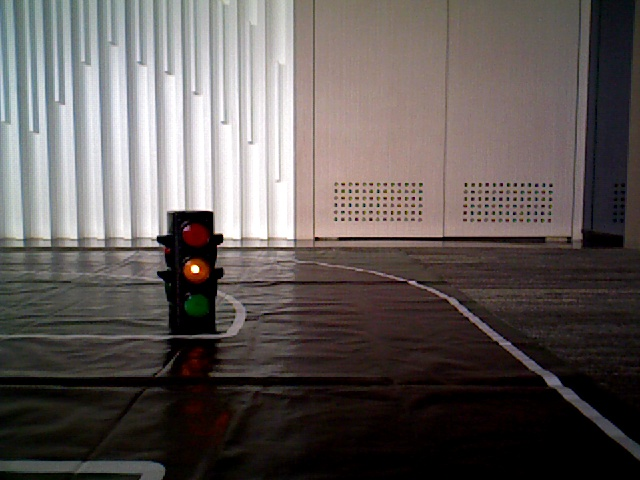yellow: (174, 214, 210, 323)
